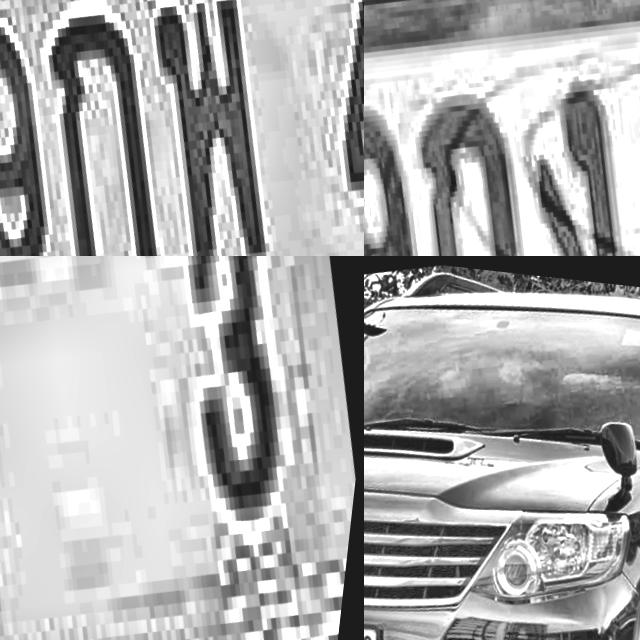license-plate: (0, 256, 364, 640), (0, 0, 364, 256), (364, 0, 640, 256)
